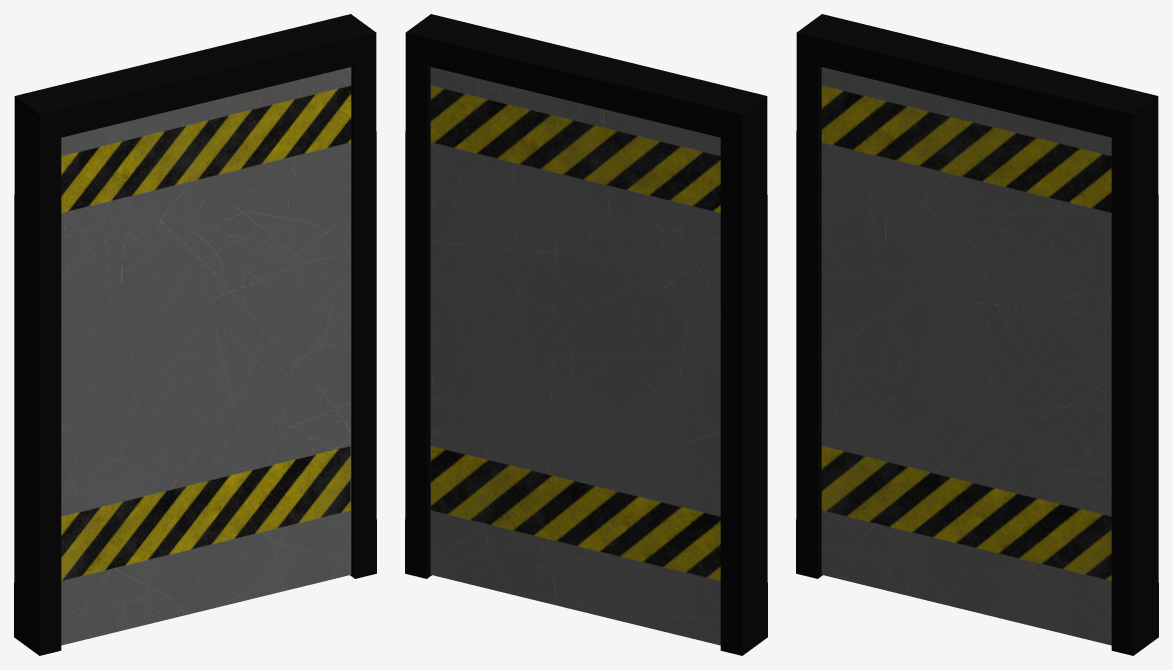
File: powerdoor.fbx
The picture shows the model from 3 angles, left to right: view 1: azimuth 30°, elevation 25°; view 2: azimuth 150°, elevation 25°; view 3: azimuth 330°, elevation 25°; orthographic projection.
Parts seen in each view (by area): view 1: powerdoor, powerdoorframe; view 2: powerdoor, powerdoorframe; view 3: powerdoor, powerdoorframe.
Part boxes in pixels (bbox=[...]): powerdoor: bbox=[61, 67, 351, 645]; powerdoorframe: bbox=[14, 14, 376, 655]; powerdoor: bbox=[430, 67, 720, 645]; powerdoorframe: bbox=[405, 14, 767, 655]; powerdoor: bbox=[821, 67, 1111, 645]; powerdoorframe: bbox=[796, 14, 1158, 655].
Bounding box in the file's own units: 384 × 589 × 50.28.
Materials: 2 (2 with a texture image).
